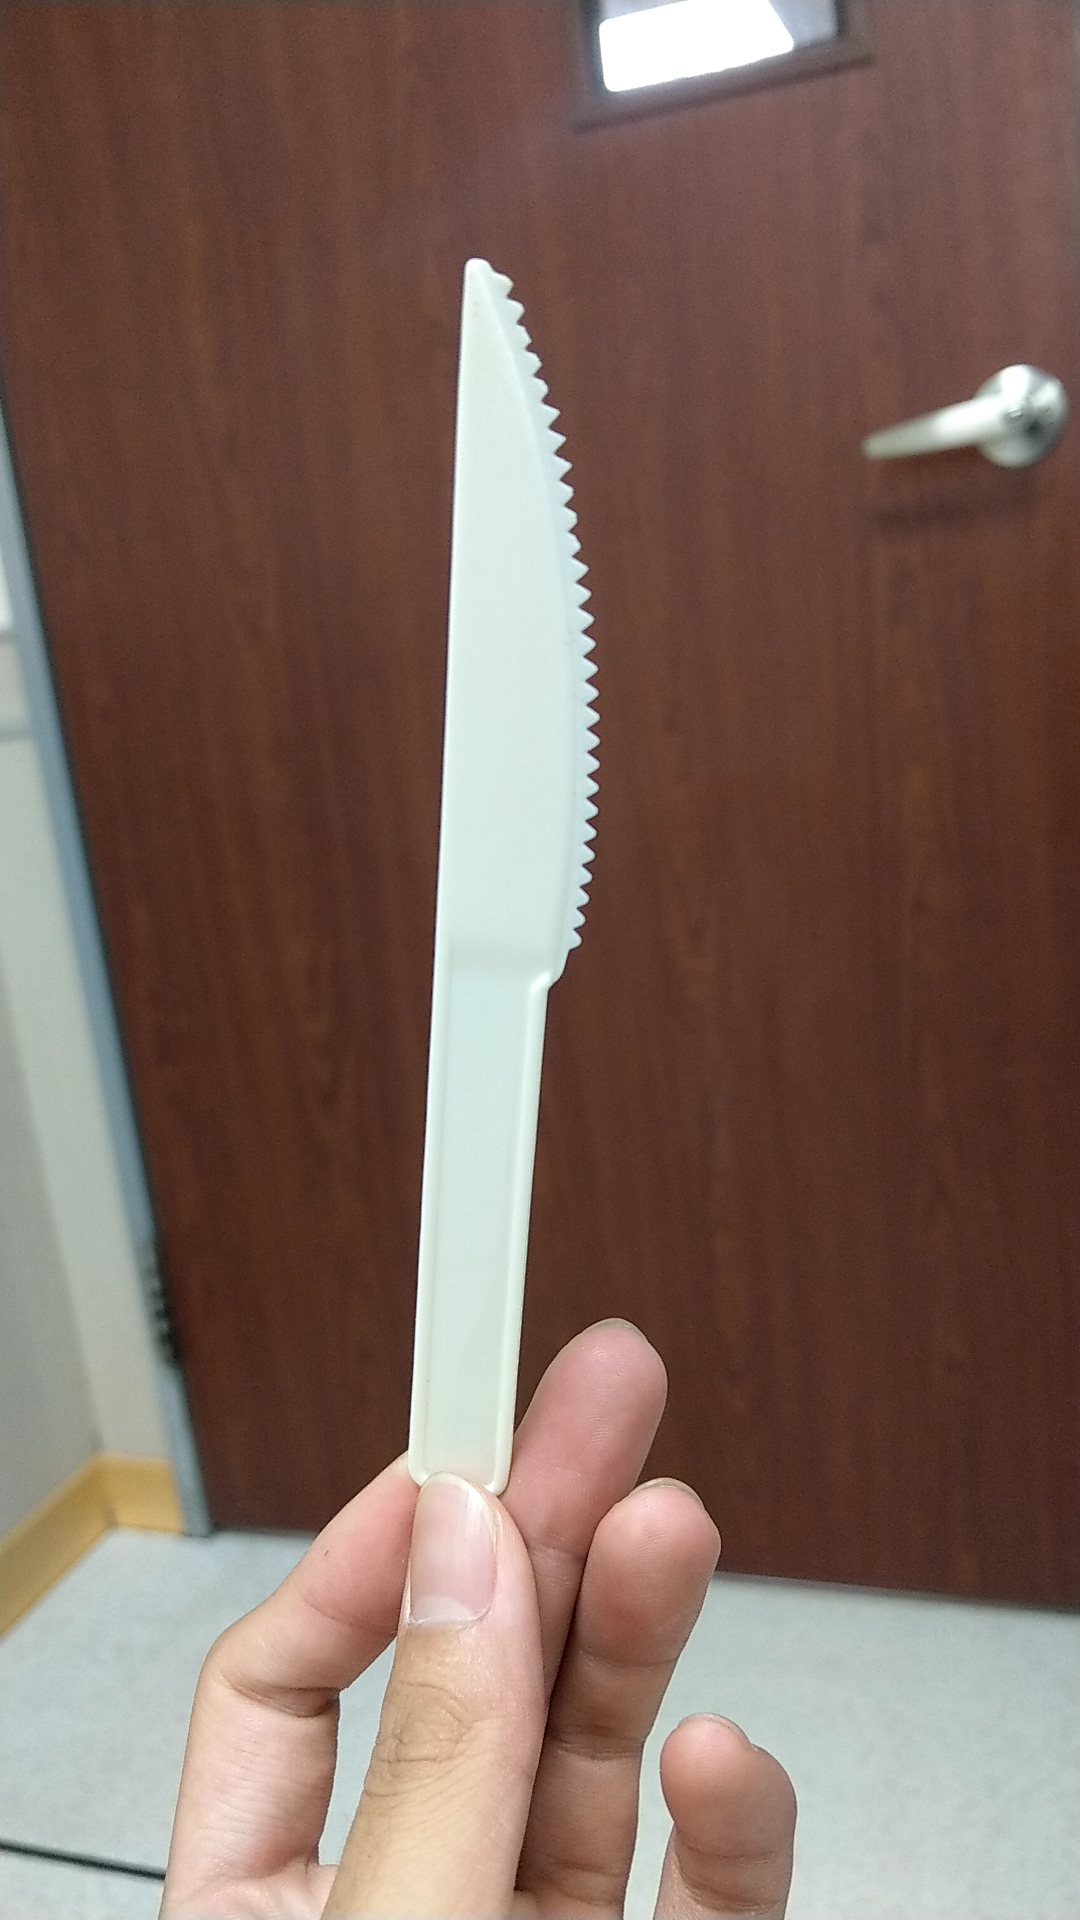knife: (393, 222, 608, 1476)
